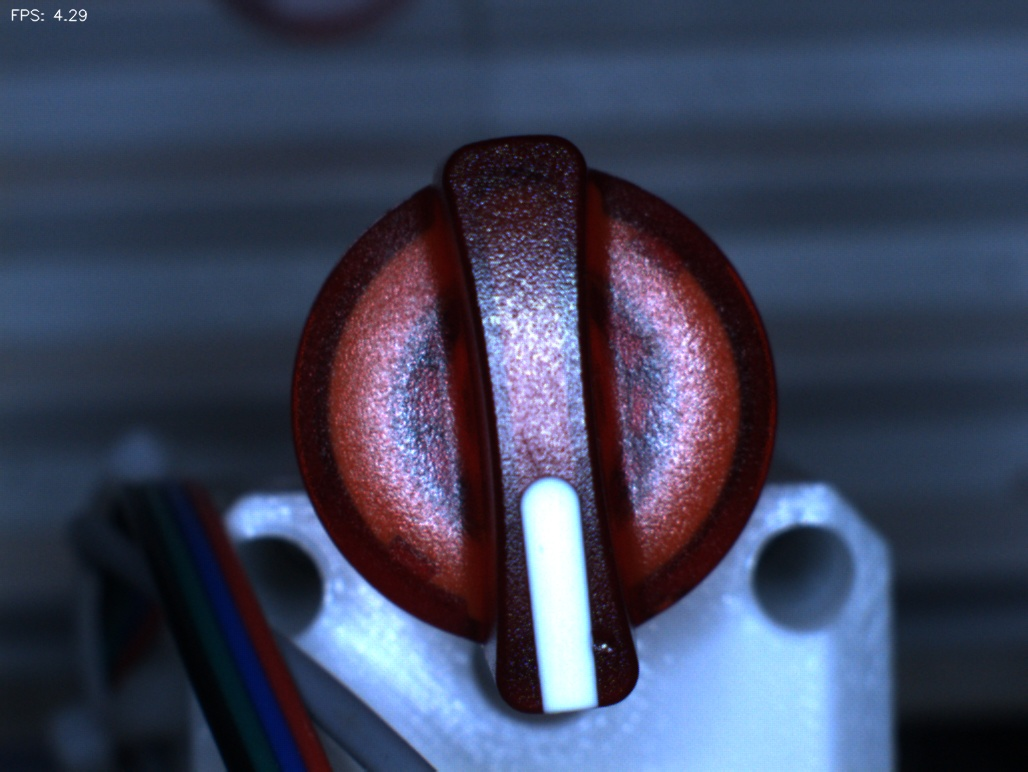Choc: (575, 602, 651, 678)
